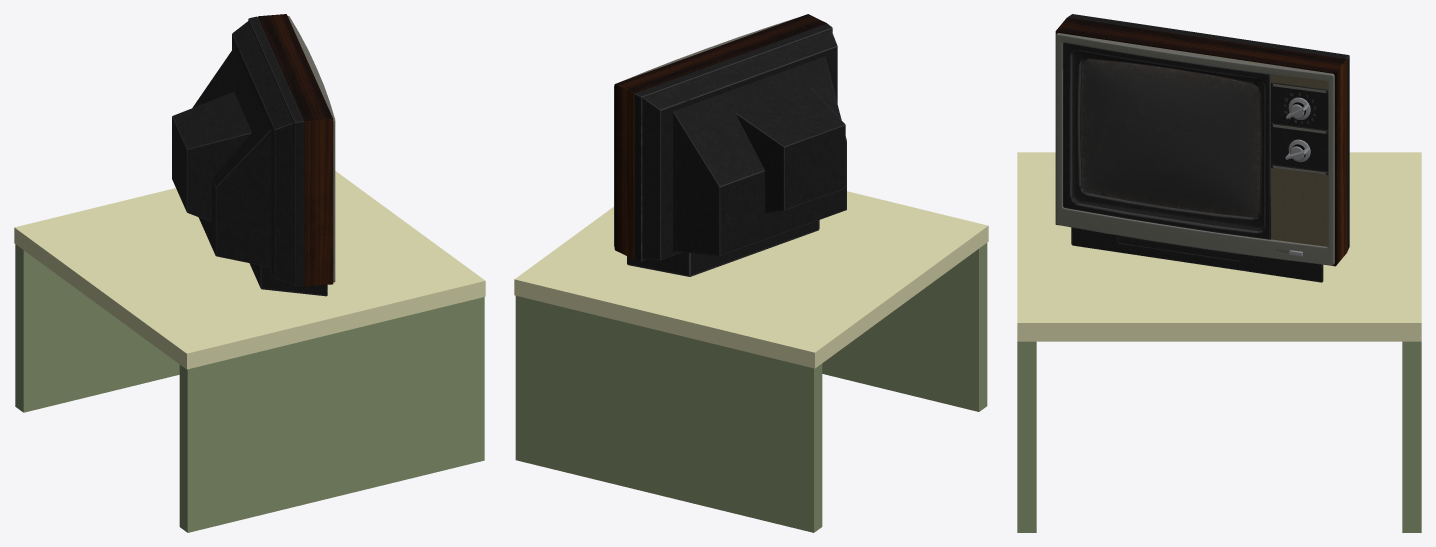
The model's file is 텔레비전탁상.fbx.
3 renders of one model, left to right at view 1: azimuth 30°, elevation 25°; view 2: azimuth 150°, elevation 25°; view 3: azimuth 270°, elevation 25°, orthographic. The views are drawn at different scales.
Parts seen in each view (by area): view 1: Cube, Plane, g.007, g.006, g.002; view 2: Cube, g.007, Plane, g.002, g.006; view 3: Plane, g.003, g.006, g.007, g.005, Cube, g.002.
Boxes of the visible parts, bbox=[...] form: Cube: bbox=[15, 244, 484, 532]; Plane: bbox=[14, 171, 485, 369]; g.007: bbox=[172, 14, 333, 286]; g.006: bbox=[288, 16, 335, 282]; g.002: bbox=[249, 263, 327, 296]; Cube: bbox=[515, 243, 987, 532]; g.007: bbox=[614, 14, 846, 261]; Plane: bbox=[514, 191, 988, 368]; g.002: bbox=[627, 220, 819, 276]; g.006: bbox=[614, 18, 796, 246]; Plane: bbox=[1017, 152, 1421, 341]; g.003: bbox=[1062, 42, 1270, 239]; g.006: bbox=[1056, 33, 1334, 265]; g.007: bbox=[1055, 14, 1349, 266]; g.005: bbox=[1271, 74, 1328, 246]; Cube: bbox=[1017, 341, 1421, 532]; g.002: bbox=[1071, 227, 1323, 282].
Size of the model in its own units: 434 by 503 by 434.
3 materials, 1 textured.
